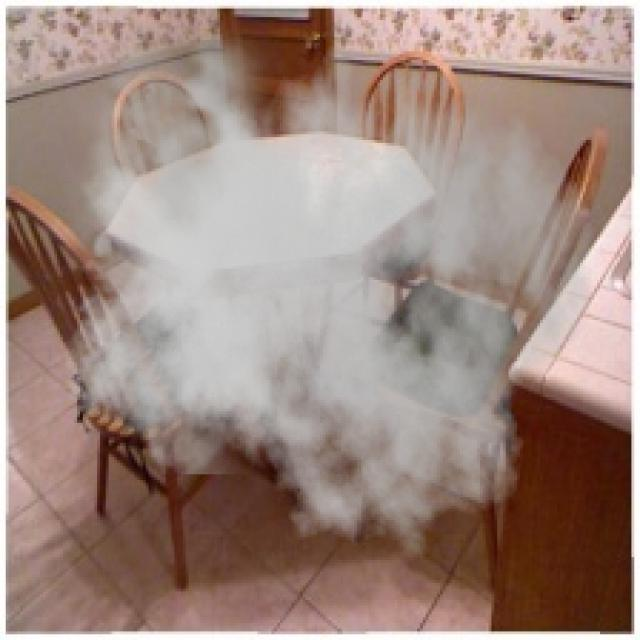smoke: (49, 3, 594, 560)
